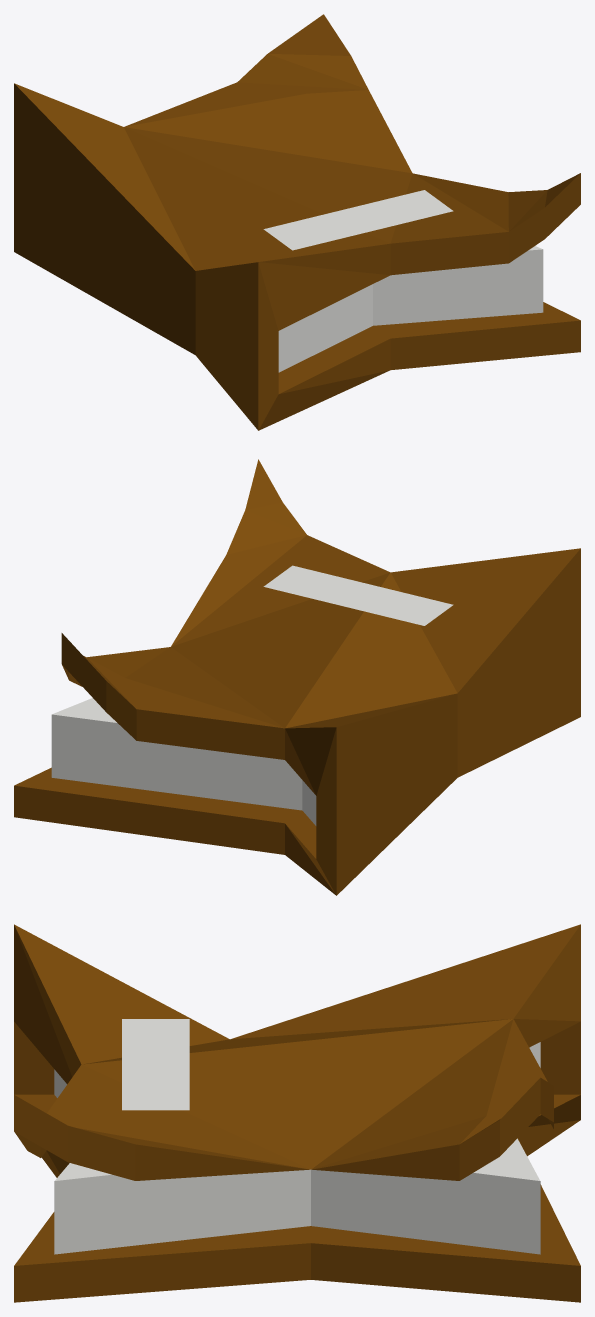
The model's file is inv_shamans_tome.obj.
3 views of the same model, one above another, from view 1: azimuth 30°, elevation 25°; view 2: azimuth 150°, elevation 25°; view 3: azimuth 270°, elevation 25° (orthographic). The views are drawn at different scales.
Bounding box in the file's own units: 0.25 × 0.1328 × 0.3281.
